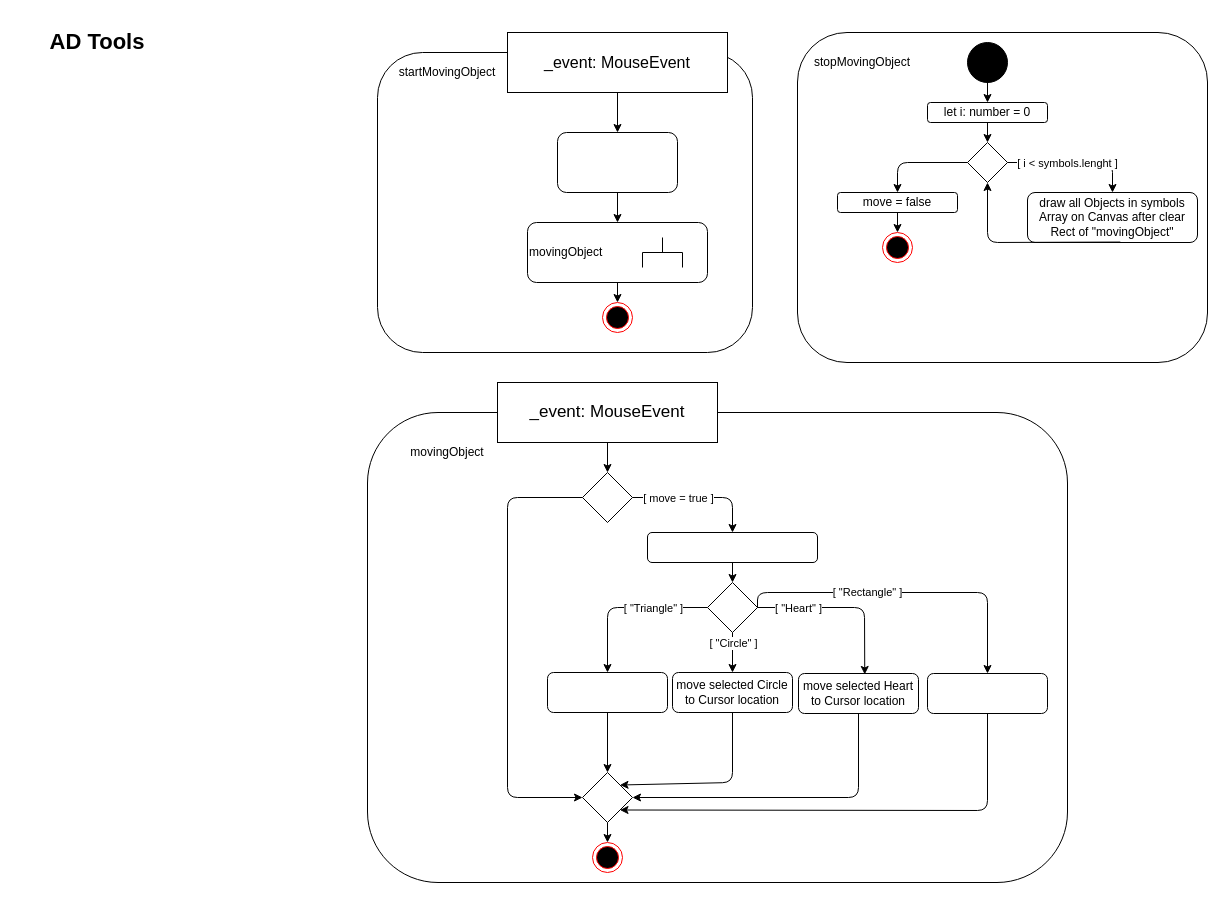
Some shapes in this 1225 by 900 pixel diagram are drawn without their labels. Here are the shapes that lost their labels. From the top down, the centre of each, then its label:
At [617,162]: "move = true".
At [732,547]: "let type = symbols[i].getType()".
At [607,692]: "move selected Triangle to Cursor location".
At [987,693]: "move selected Rectangle to Cursor location".
